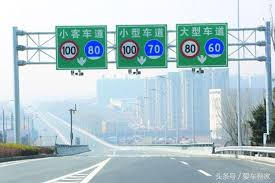Speed_limit_100km: (59, 40, 79, 61), (119, 39, 138, 59)
Speed_limit_80km: (179, 38, 199, 58)
